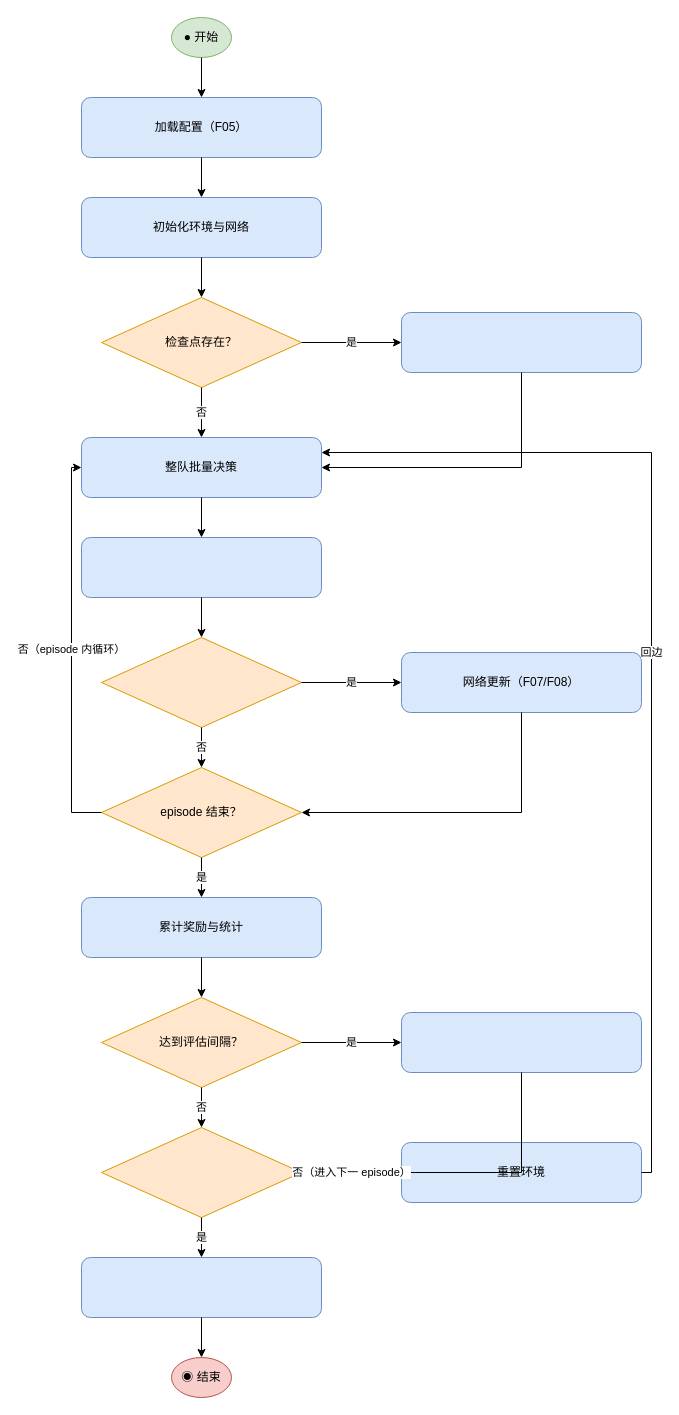
The diagram is 679 pixels wide and 1415 high, and some of its shapes have lost their labels. The centre of each missing label's shape, as x and y in pixels:
"buffer 达到更新阈值？" belongs at pixel 201 682.
"保存检查点与曲线" belongs at pixel 201 1287.
"恢复检查点（F10）" belongs at pixel 521 342.
"环境推进并存储转移" belongs at pixel 201 567.
"触发对抗评估（F13）" belongs at pixel 521 1042.
"训练步数达标？" belongs at pixel 201 1172.
